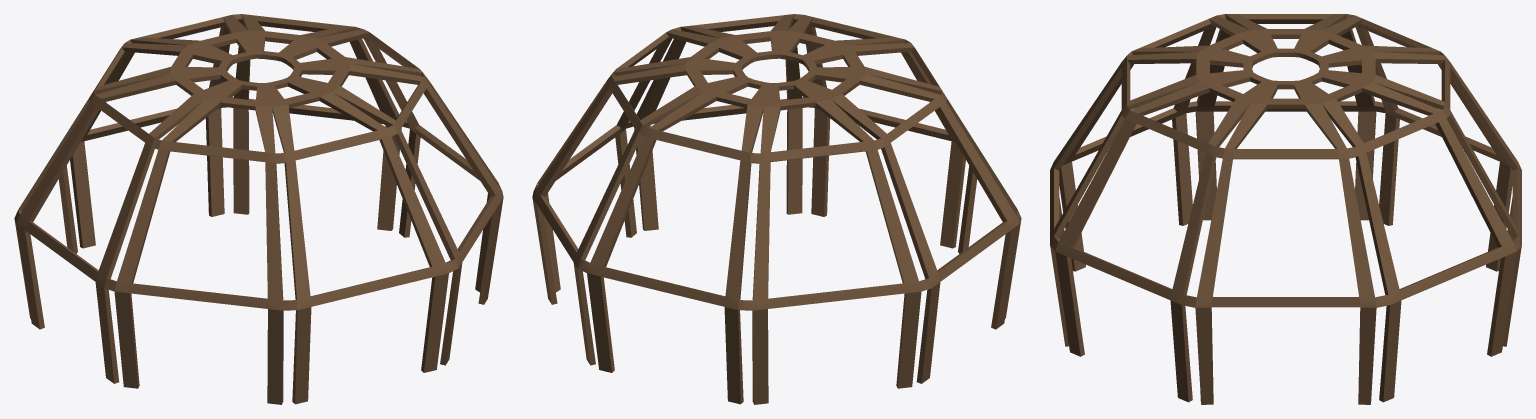
The model's file is Soporte Santuario.fbx.
3 views of the same model, side by side, from view 1: azimuth 30°, elevation 25°; view 2: azimuth 150°, elevation 25°; view 3: azimuth 270°, elevation 25° (orthographic). The views are drawn at different scales.
Parts seen in each view (by area): view 1: Soporte_Santuario; view 2: Soporte_Santuario; view 3: Soporte_Santuario.
Part boxes in pixels (x1,y1,x2,y2): Soporte_Santuario: (14,14,503,404); Soporte_Santuario: (532,14,1021,404); Soporte_Santuario: (1050,14,1521,404).
Bounding box in the file's own units: 2182 × 1254 × 2182.
